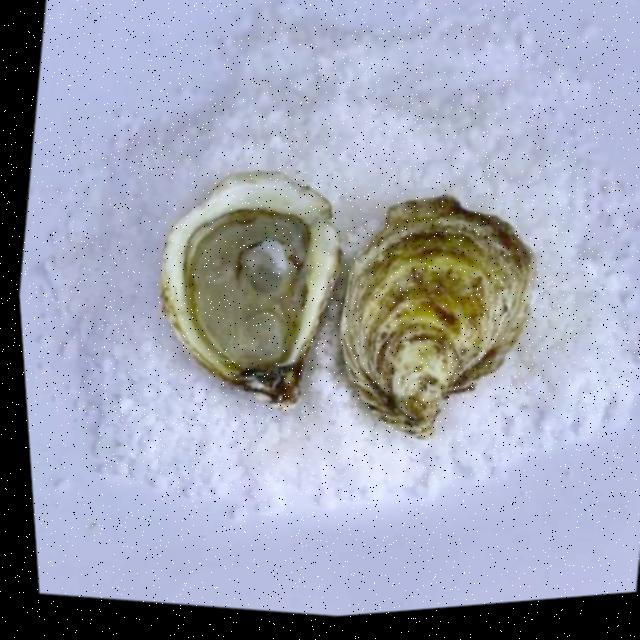Oyster-Indeterminate: (341, 195, 535, 439)
Oyster-Open: (165, 171, 341, 406)
